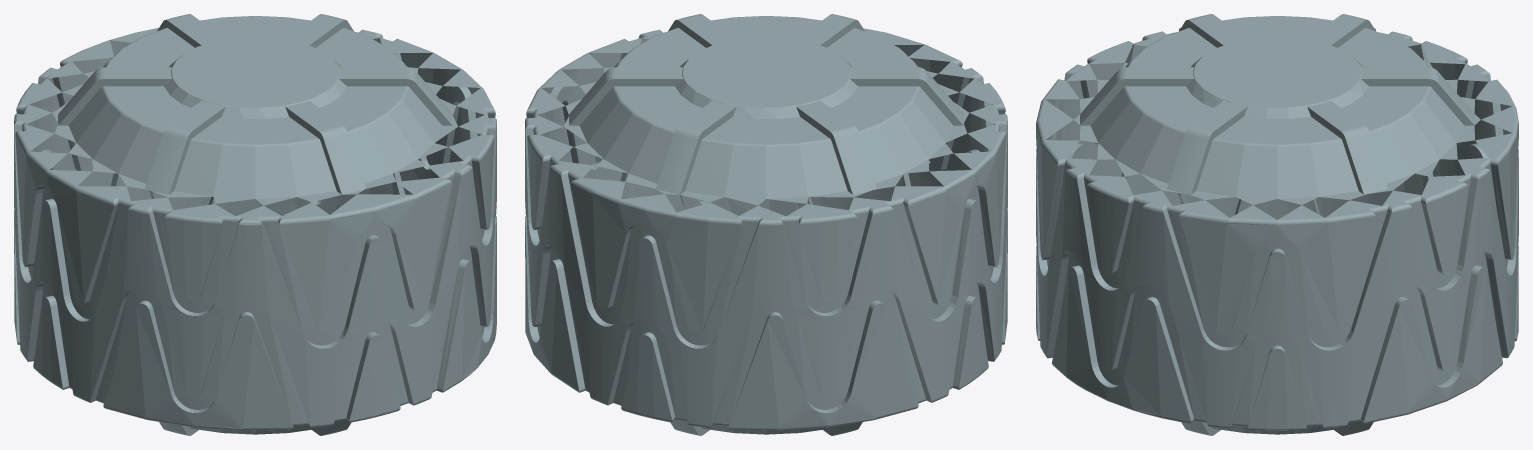
Rendered from tracer_wheel.obj.
3 renders of one model, left to right at view 1: azimuth 30°, elevation 25°; view 2: azimuth 150°, elevation 25°; view 3: azimuth 270°, elevation 25°, orthographic.
Visible parts, largest first — view 1: geometry0; view 2: geometry0; view 3: geometry0.
Part boxes in pixels (x1=…): geometry0: x1=14, y1=14, x2=496, y2=435; geometry0: x1=525, y1=14, x2=1007, y2=435; geometry0: x1=1036, y1=14, x2=1518, y2=435.
Bounding box in the file's own units: 0.121 × 0.0844 × 0.121.
